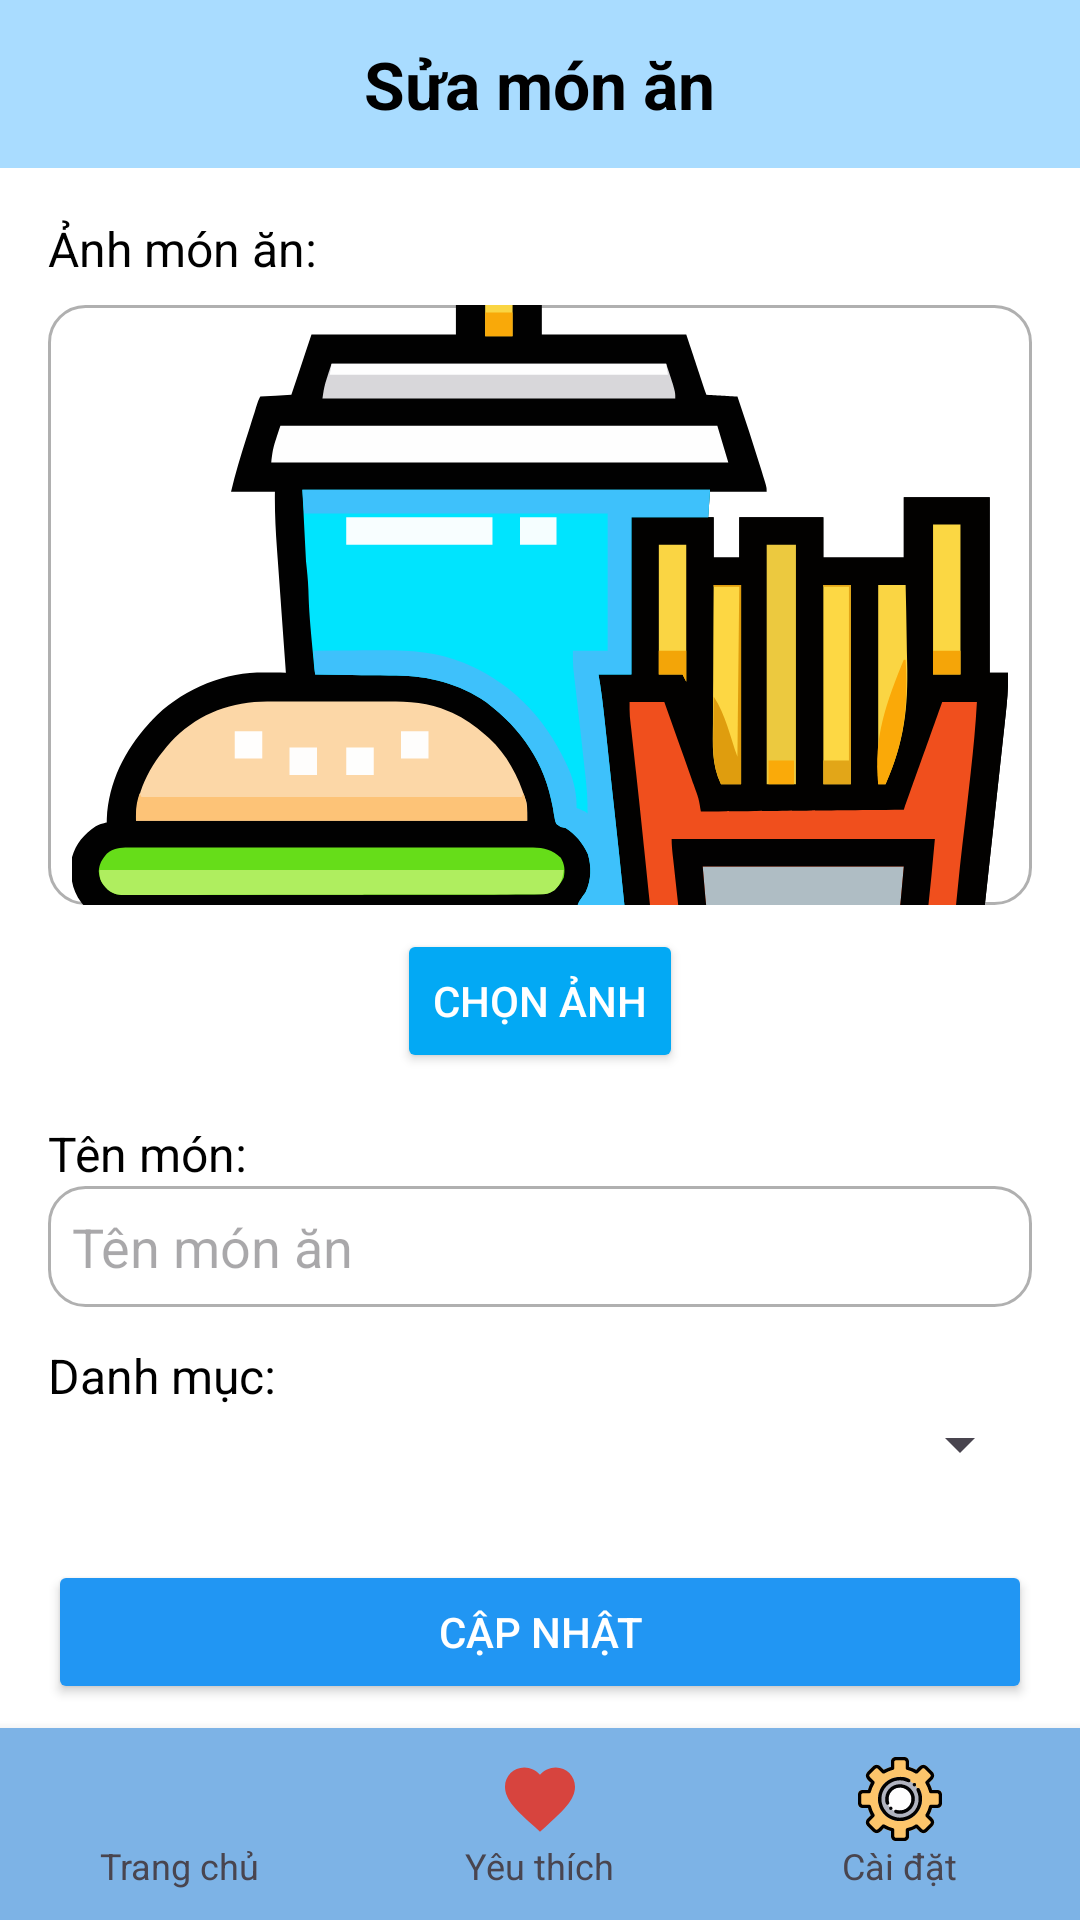

Icon click points for this 1080 x 1920 phone screenshot, format point (x, y):
heart: point (540, 1799)
